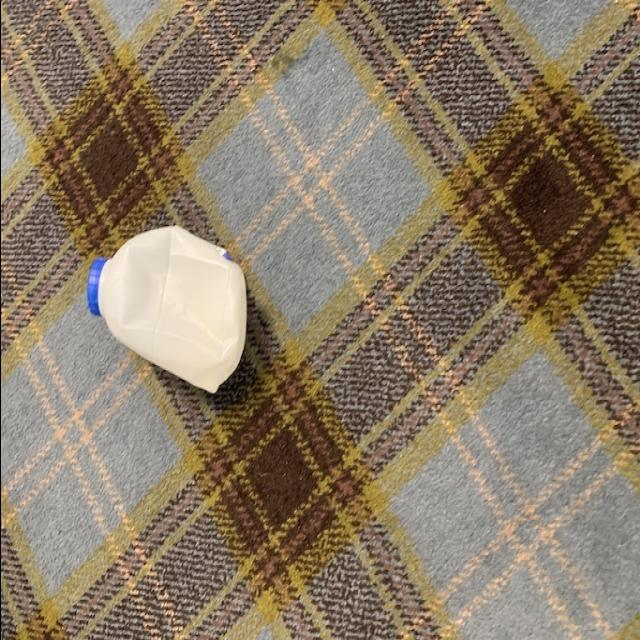litter: (70, 224, 250, 394)
